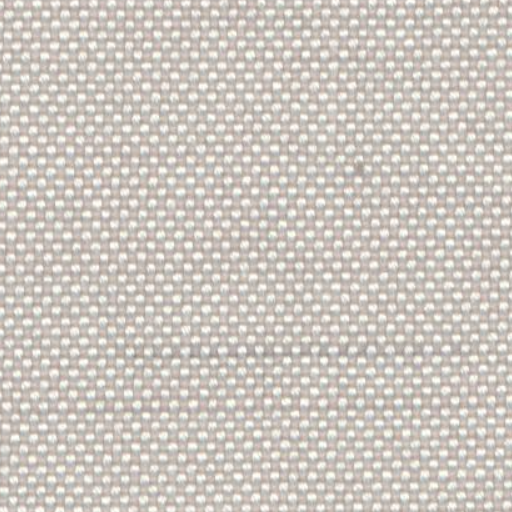WuZi: (334, 155, 381, 190)
